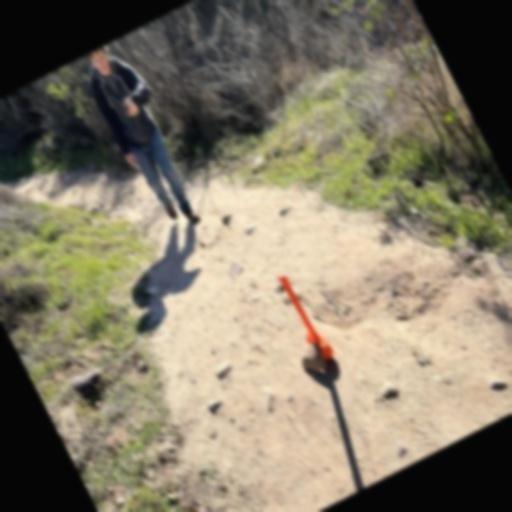mallet: (274, 267, 336, 364)
